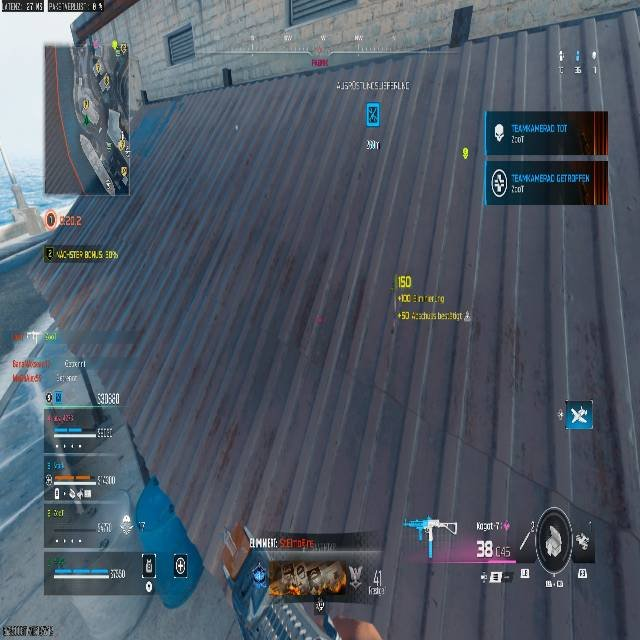head: (320, 559, 354, 596)
player: (267, 558, 357, 639)
